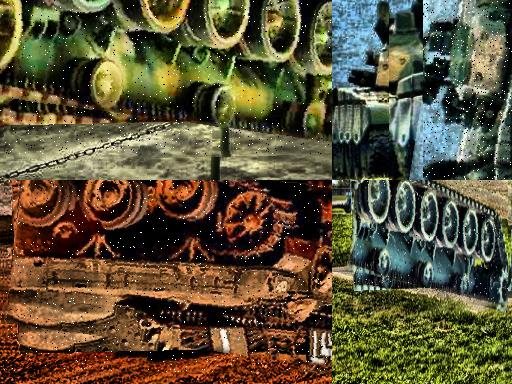tanks: (6, 181, 333, 370), (1, 1, 333, 145), (350, 181, 509, 307), (333, 5, 442, 179), (424, 1, 512, 181), (441, 37, 474, 69)
